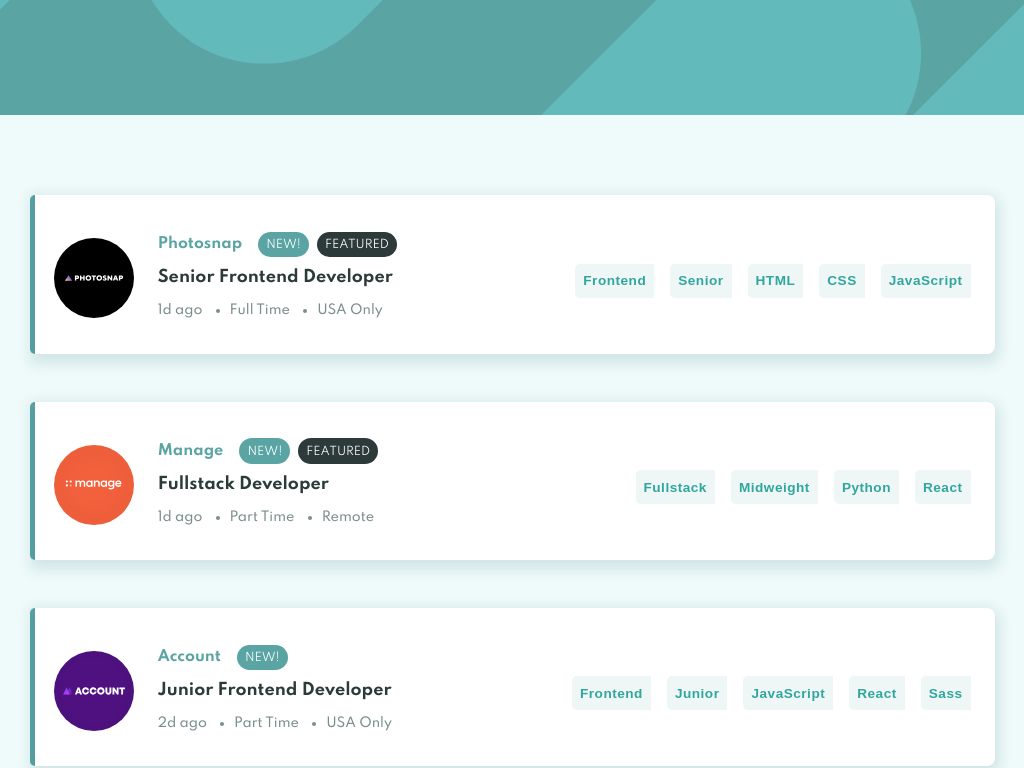
Test: Testing the component › Clears the data array when clear buttons clicked
What coordinates should you click on to do the following:
click the button "Senior"
I would click on:
 (701, 281)
Its box is [670,264,732,298].
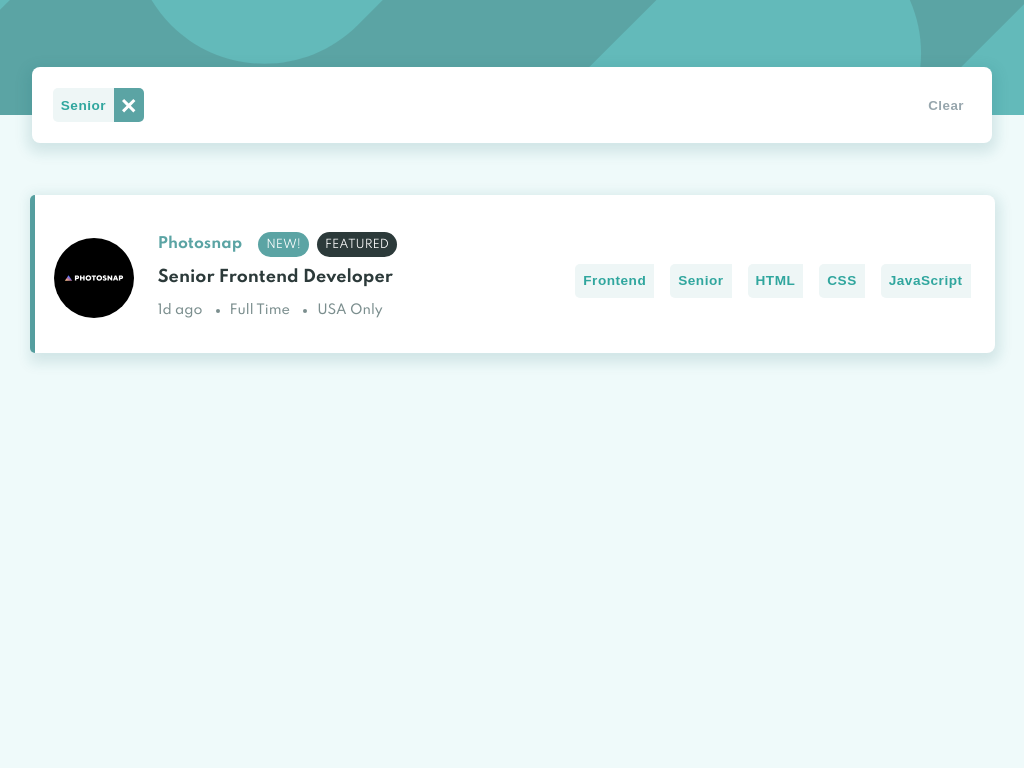
What coordinates should you click on to do the following:
click the button "Clear"
I would click on:
 (946, 105)
Its box is [920,88,972,122].
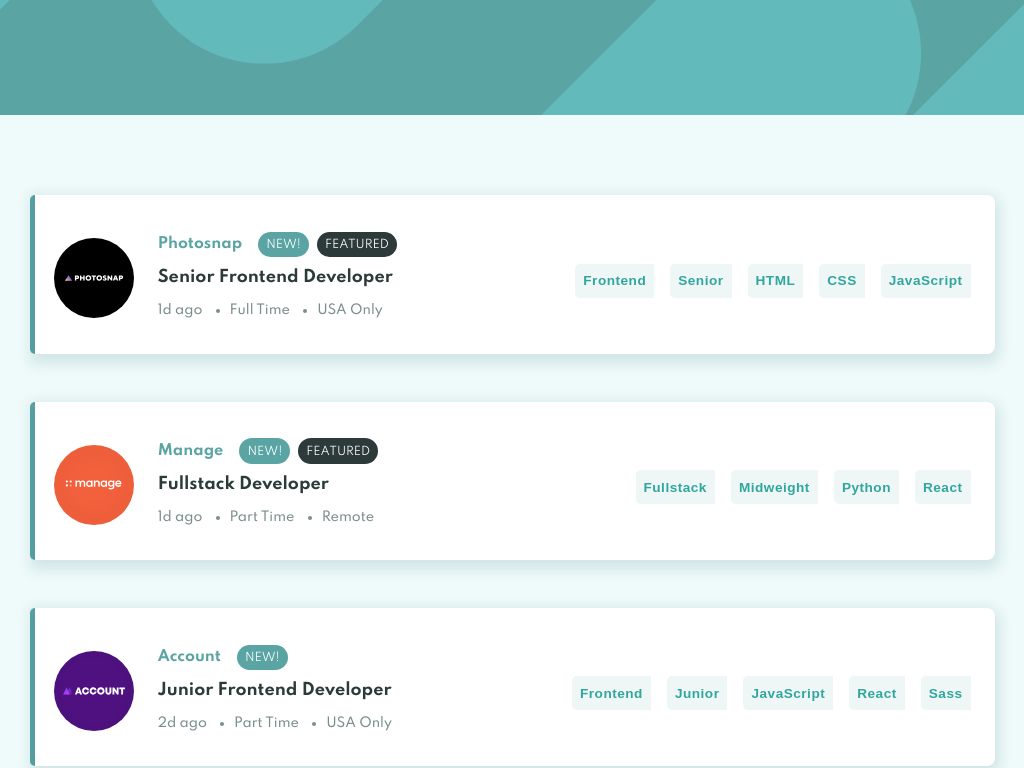
expect the button "Clear" is gone: met
